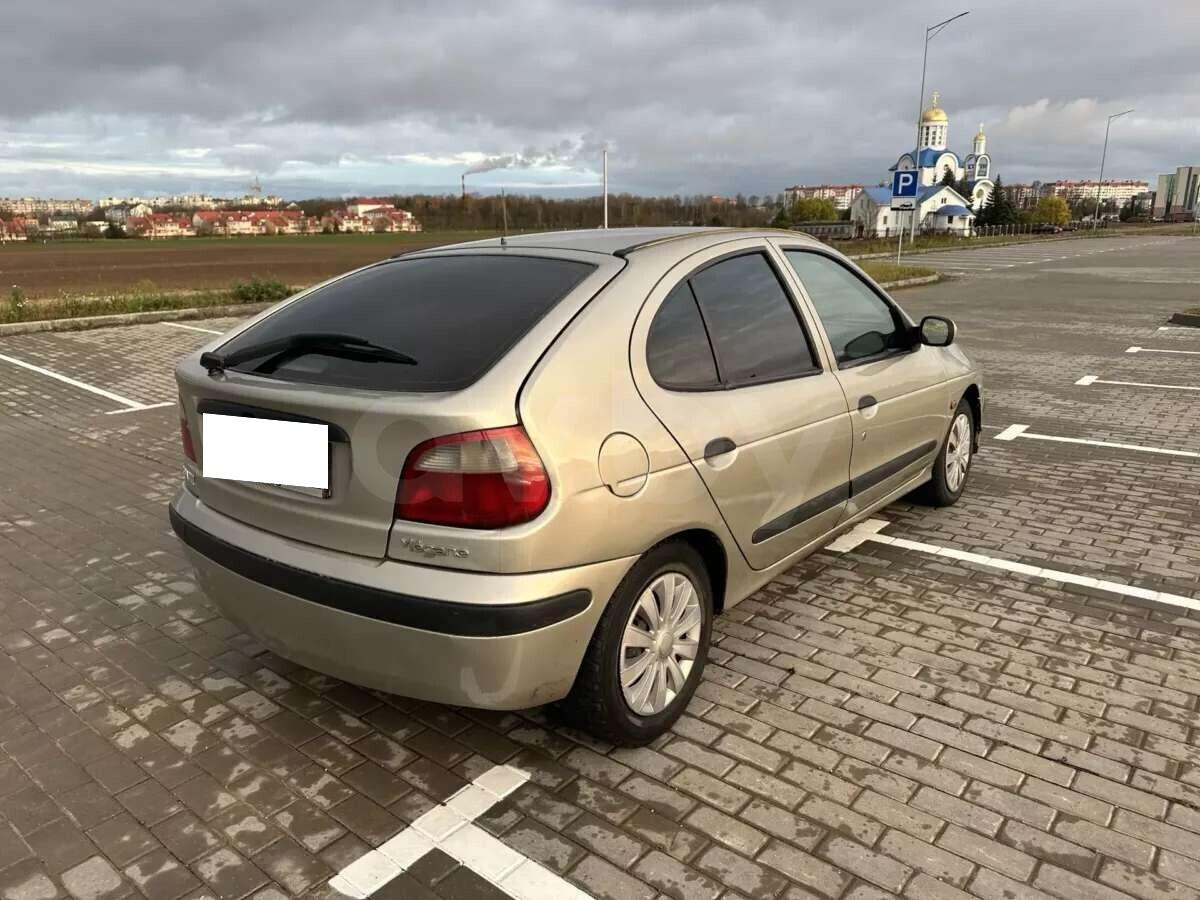Megane_1999-2003: (165, 219, 999, 739)
